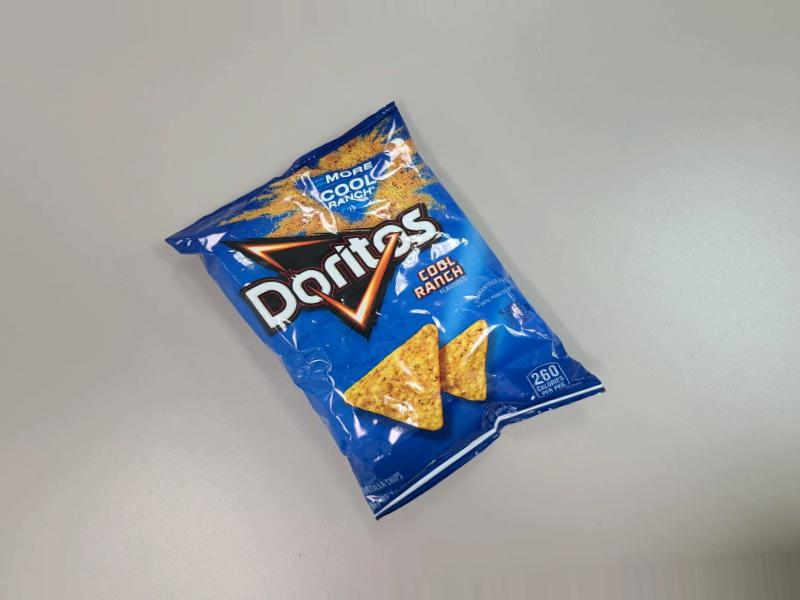doritos: (232, 162, 585, 467)
